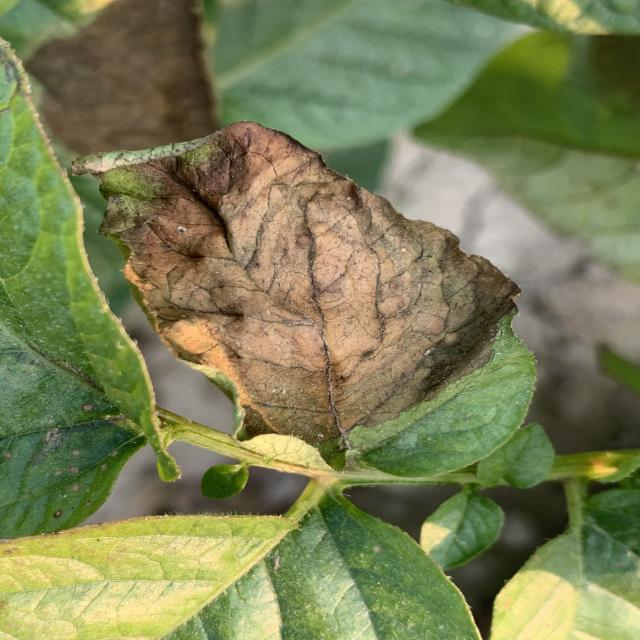lateblight: (73, 121, 518, 444), (27, 0, 218, 154)
